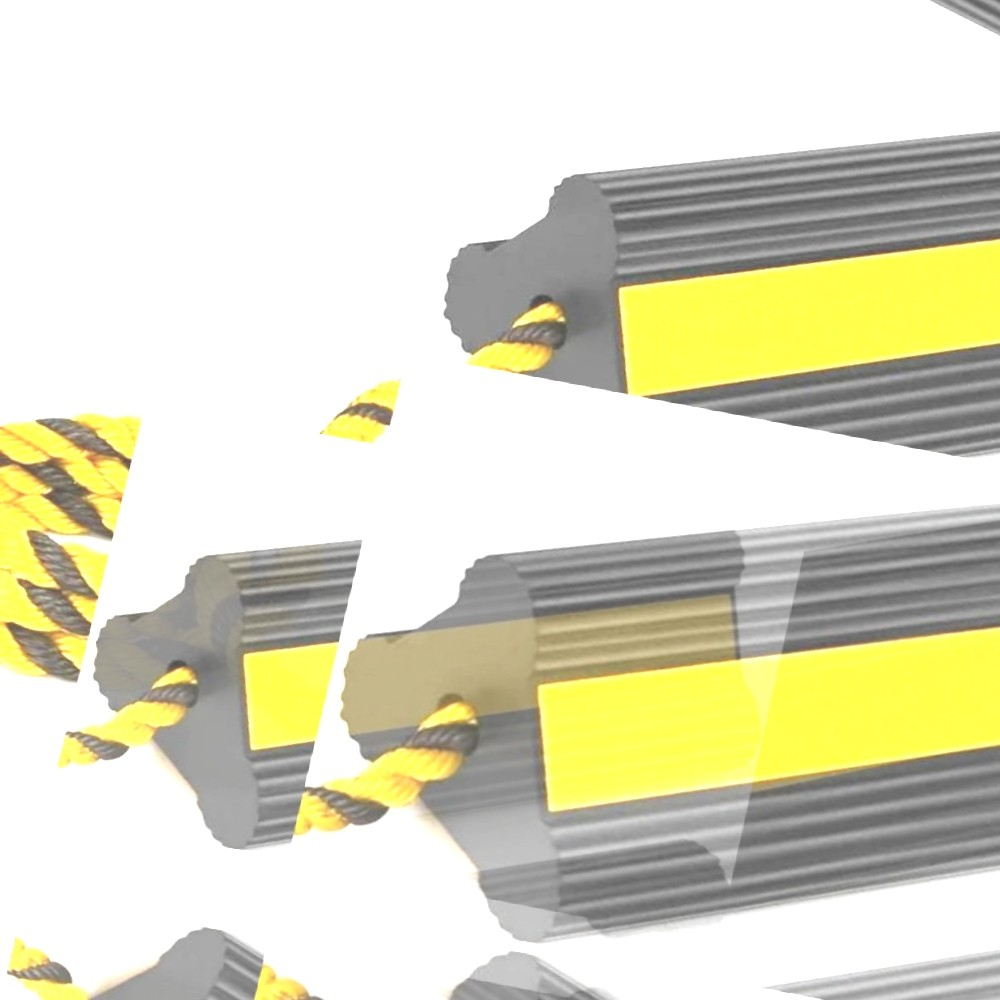chock: (271, 348, 1000, 1000), (39, 397, 816, 948), (376, 369, 1000, 1000), (383, 0, 1000, 625)
